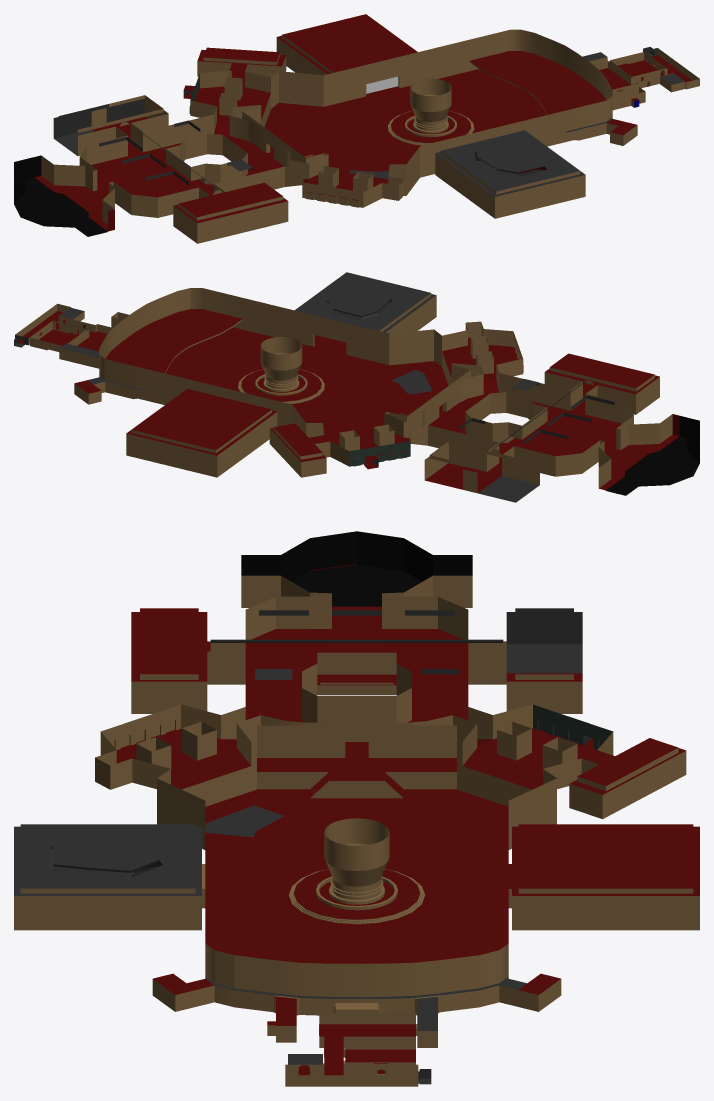
File: Nivel1_New_Colors.fbx
3 renders of one model, top to bottom at view 1: azimuth 30°, elevation 25°; view 2: azimuth 150°, elevation 25°; view 3: azimuth 270°, elevation 25°, orthographic. The views are drawn at different scales.
Visible parts, largest first — view 1: polySurface1504; view 2: polySurface1504; view 3: polySurface1504.
Part boxes in pixels (x1,y1,x2,y2): polySurface1504: [14, 14, 699, 243]; polySurface1504: [14, 272, 699, 502]; polySurface1504: [14, 531, 699, 1086].
Bounding box in the file's own units: 31005 × 1950 × 17863.
